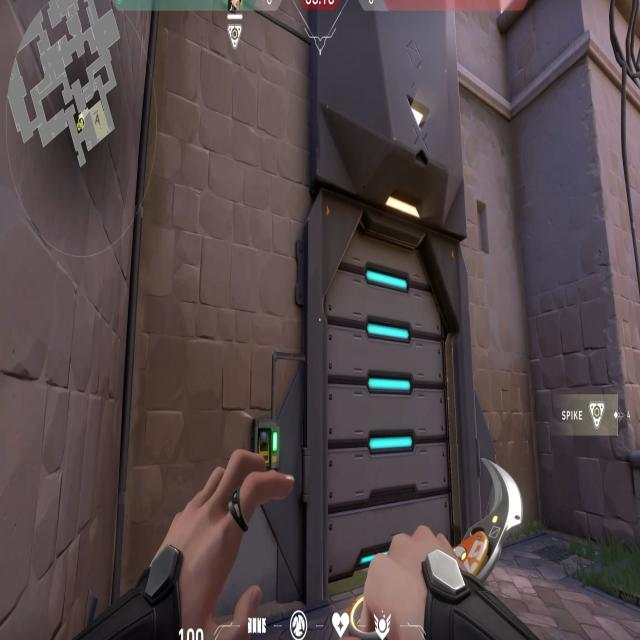A_Door: (296, 164, 476, 606)
